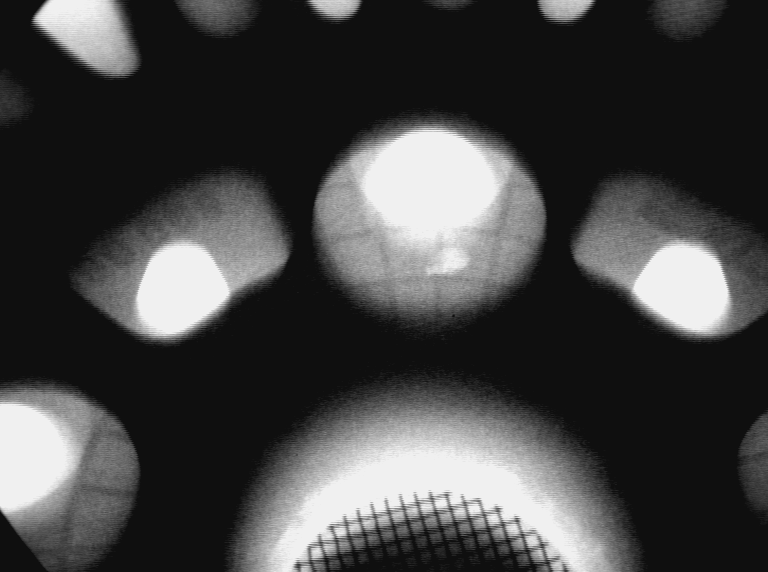defect: (424, 244, 473, 279)
